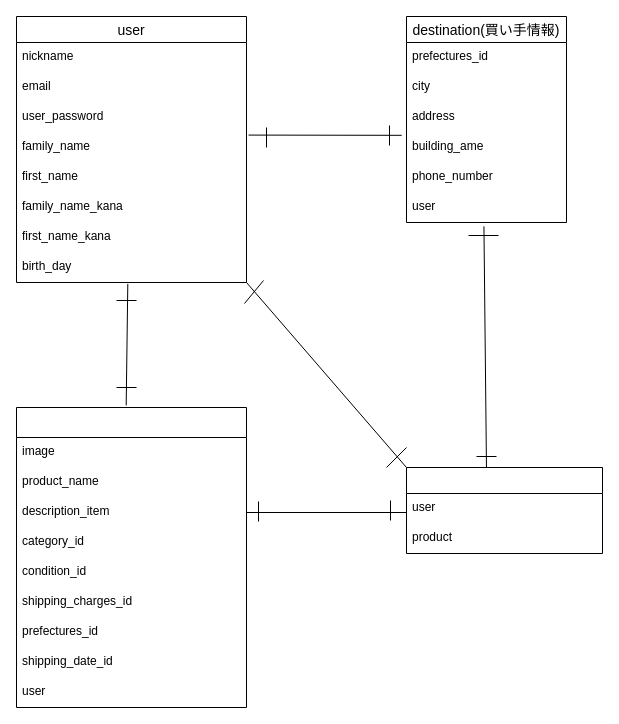
The diagram is 619 pixels wide and 724 high, and some of its shapes have lost their labels. Here are the shapes that lost their labels. From the top down, the box of each, then its label:
(406, 466, 602, 554): purchase history(購入履歴）
(16, 406, 246, 708): product(出品商品情報)
